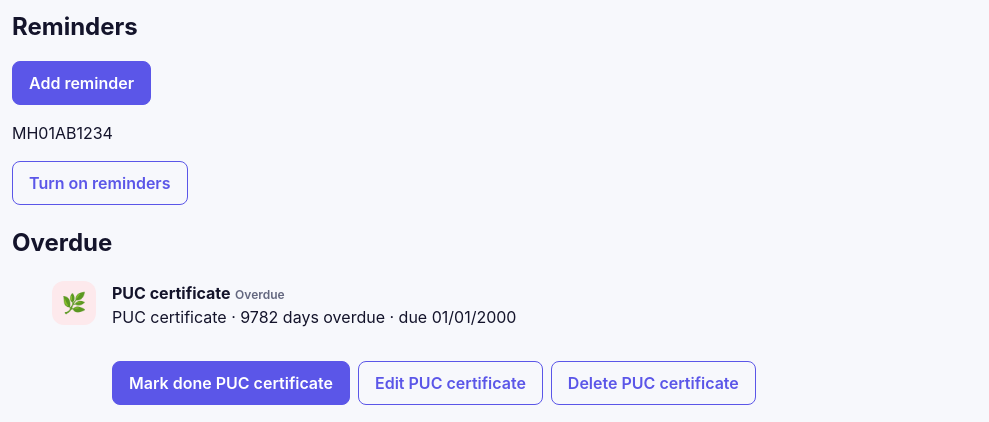
Turn on reminders — opt-in (FR-REM-04, TC-REM-05) › declining does not break the app: the list still shows and a plain message explains
What coordinates should you click on to do the following:
click the button "Turn on reminders"
I would click on:
 (100, 183)
Its box is left=12, top=161, right=188, bottom=205.
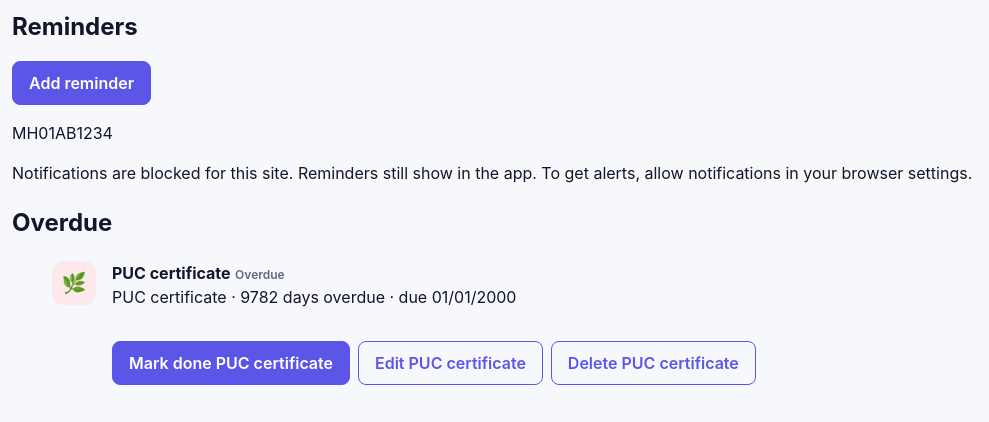
Check: the element "Overdue" shows "PUC certificate", box left=112, top=263, right=231, bottom=283
Check: the text "Notifications are blocked" is shown, box left=12, top=163, right=972, bottom=183
